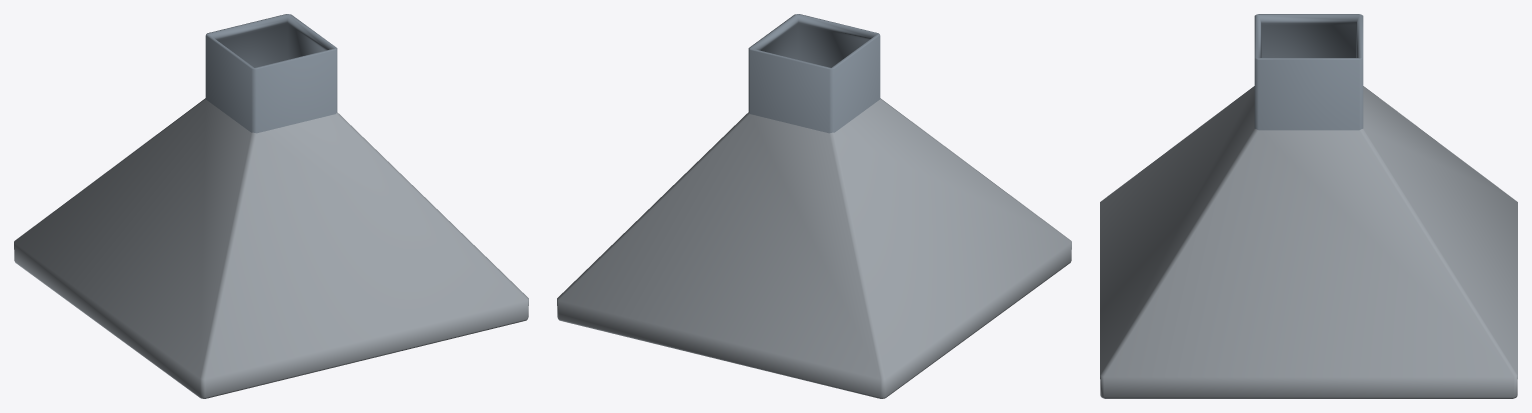
File: PaddleBox-1.fbx
3 renders of one model, left to right at view 1: azimuth 30°, elevation 25°; view 2: azimuth 150°, elevation 25°; view 3: azimuth 270°, elevation 25°, orthographic. The views are drawn at different scales.
Visible parts, largest first — view 1: Paddle-Box-1; view 2: Paddle-Box-1; view 3: Paddle-Box-1.
Boxes of the visible parts, <box> form: Paddle-Box-1: <box>14,14,528,398</box>; Paddle-Box-1: <box>557,14,1071,398</box>; Paddle-Box-1: <box>1100,14,1517,398</box>.
Bounding box in the file's own units: 1 × 0.7272 × 1.
